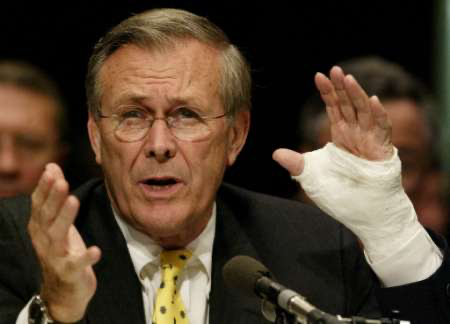Face: (98, 56, 232, 236)
